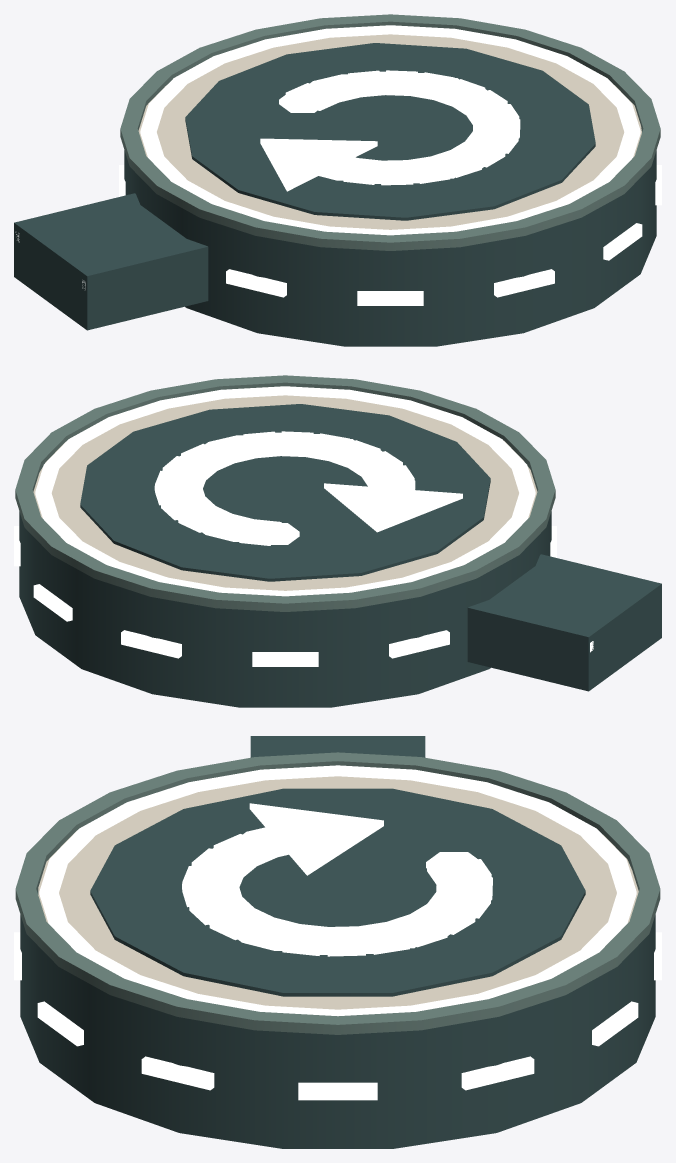
The model's file is Relay_Button_Rotation_v2_lab.glb.
3 views of the same model, one above another, from view 1: azimuth 30°, elevation 25°; view 2: azimuth 150°, elevation 25°; view 3: azimuth 270°, elevation 25° (orthographic). The views are drawn at different scales.
Parts seen in each view (by area): view 1: Relay_Button_Rotation_v2, Glyph, Strut; view 2: Relay_Button_Rotation_v2, Glyph, Strut; view 3: Relay_Button_Rotation_v2, Glyph, Strut.
Part boxes in pixels (<box>): Relay_Button_Rotation_v2: <box>119,14,661,346</box>; Glyph: <box>185,43,595,220</box>; Strut: <box>14,193,208,330</box>; Relay_Button_Rotation_v2: <box>14,375,556,707</box>; Glyph: <box>80,404,490,581</box>; Strut: <box>467,554,661,691</box>; Relay_Button_Rotation_v2: <box>14,752,661,1148</box>; Glyph: <box>90,788,585,996</box>; Strut: <box>250,736,425,757</box>.
Bounding box in the file's own units: 4.99 × 1.61 × 4.08.
